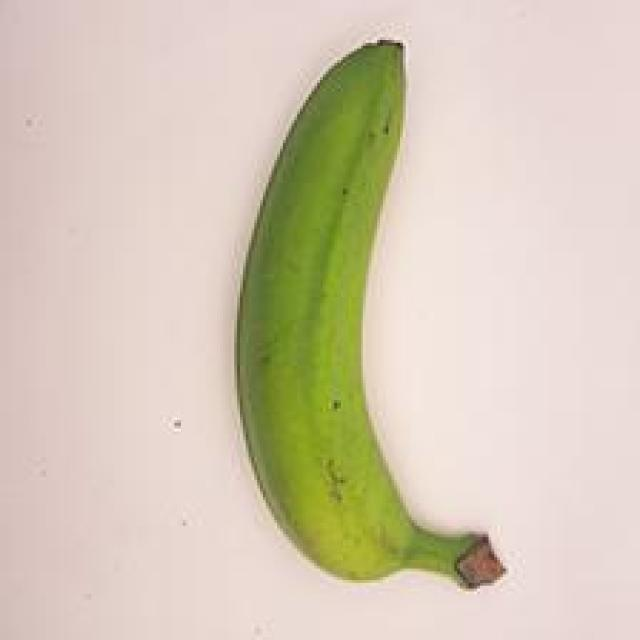unripe: (161, 10, 557, 612)
